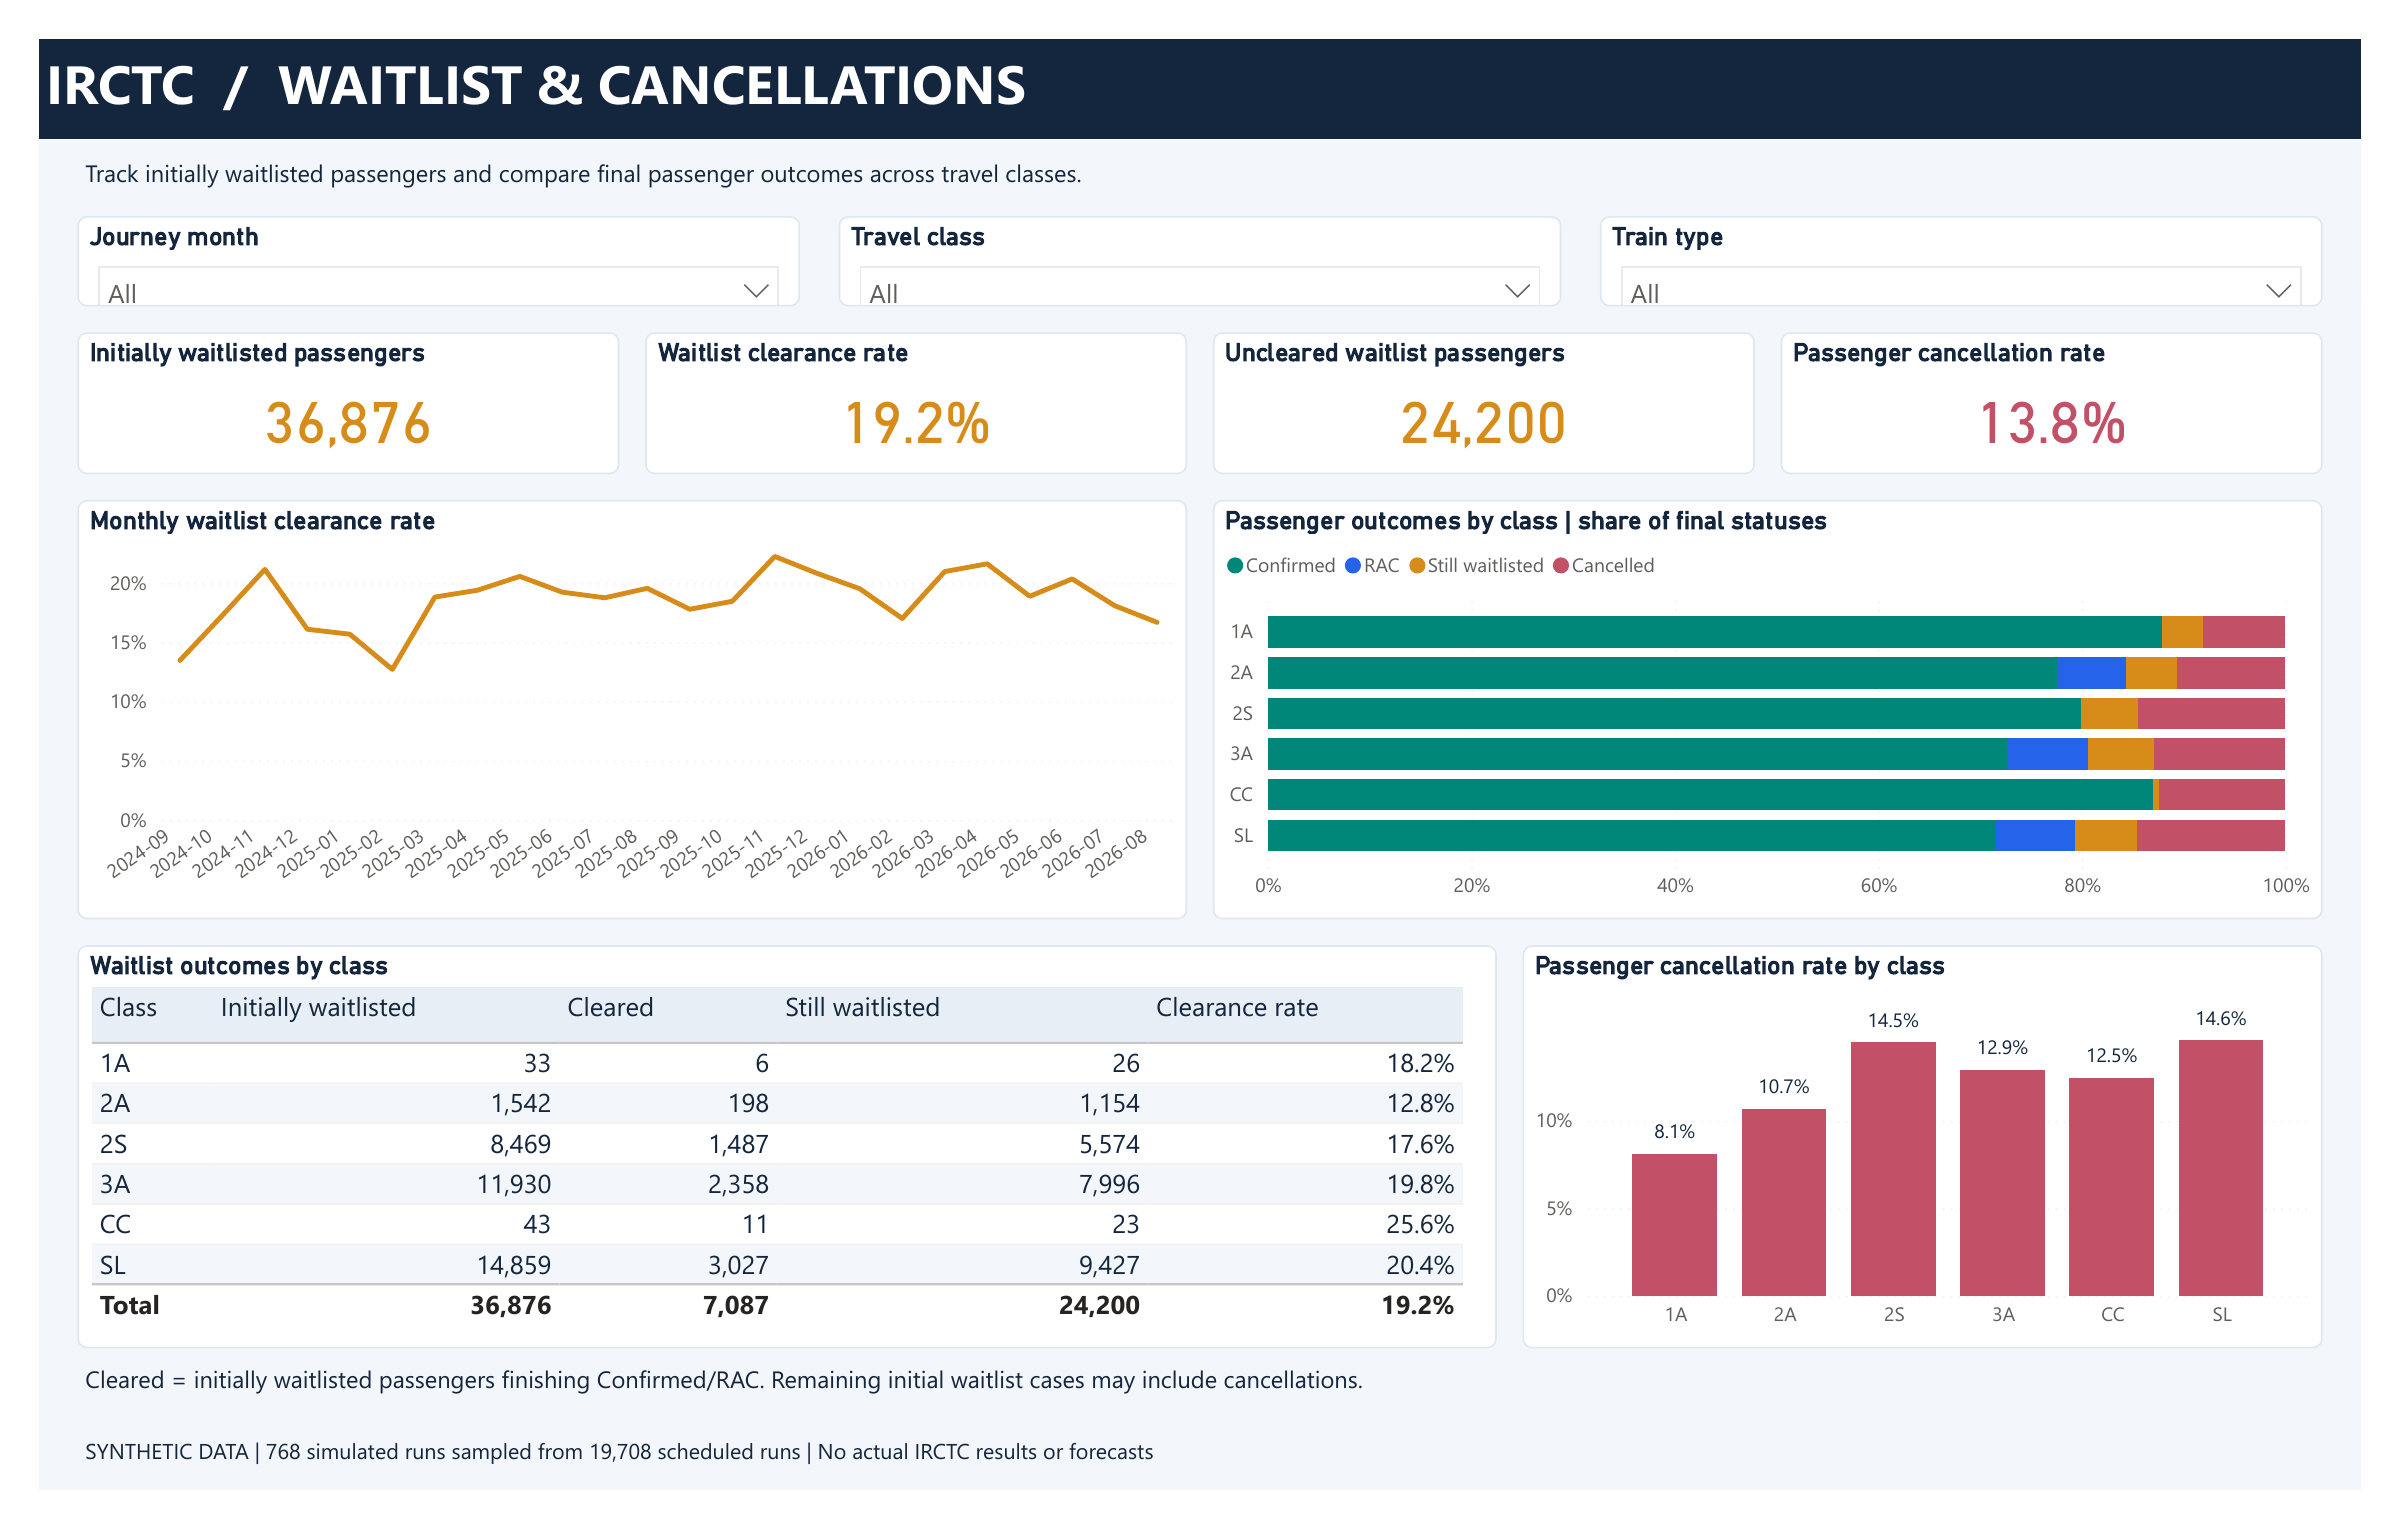

What the dashboard file says about the page in this screenshot:
{"tool":"tableau","page":{"name":"05 Waitlist and cancellations","canvas":[1400,820],"ordinal":4},"visuals":[{"type":"text","box":[0,0,1400,58]},{"type":"text","box":[22,66,1356,28]},{"type":"parameter","param":"[Parameters].[Journey month]","box":[22,102,328,53]},{"type":"parameter","param":"[Parameters].[Travel class]","box":[366,102,328,53]},{"type":"parameter","param":"[Parameters].[Train type]","box":[710,102,328,53]},{"type":"text","box":[1060,111,318,35]},{"type":"text","box":[22,168,327,27]},{"type":"text","box":[366,168,327,27]},{"type":"text","box":[710,168,327,27]},{"type":"text","box":[1054,168,327,27]},{"type":"worksheet","title":"05 KPI Initially waitlisted","mark":"Text","box":[22,195,327,61]},{"type":"worksheet","title":"05 KPI Waitlist clearance rate","mark":"Text","box":[366,195,327,61]},{"type":"worksheet","title":"05 KPI Still waitlisted","mark":"Text","box":[710,195,327,61]},{"type":"worksheet","title":"05 KPI Passenger cancellation rate","mark":"Text","box":[1054,195,327,61]},{"type":"worksheet","title":"05 Monthly waitlist clearance rate","mark":"Line","rows":["Waitlist Clearance Rate"],"cols":["Month"],"box":[22,272,660,225]},{"type":"worksheet","title":"05 Initial waitlist cohort | final passenger counts","mark":"Bar","rows":["FinalStatus"],"cols":["Total Passengers"],"box":[698,272,680,225]},{"type":"text","box":[22,513,850,33]},{"type":"worksheet","title":"05 Passenger cancellation rate by class","mark":"Bar","rows":["Passenger Cancellation Rate"],"cols":["TravelClass"],"box":[888,513,490,222]},{"type":"worksheet","title":"05 Final passenger counts by class","mark":"Bar","rows":["TravelClass"],"cols":["Total Passengers"],"box":[22,551,850,184]},{"type":"text","box":[22,751,1356,27]},{"type":"text","box":[22,788,1356,23]}]}

Visuals, with their boxes on the page's 1400x820 design canvas (x1, y1, x2, y2). These are canvas units, not pixel positions in the 2400x1530 screenshot, which may show the page scaled, cropped or inside an application window:
text: rect(0, 0, 1400, 58)
text: rect(22, 66, 1378, 94)
parameter: rect(22, 102, 350, 155)
parameter: rect(366, 102, 694, 155)
parameter: rect(710, 102, 1038, 155)
text: rect(1060, 111, 1378, 146)
text: rect(22, 168, 349, 195)
text: rect(366, 168, 693, 195)
text: rect(710, 168, 1037, 195)
text: rect(1054, 168, 1381, 195)
"05 KPI Initially waitlisted" worksheet (Text marks): rect(22, 195, 349, 256)
"05 KPI Waitlist clearance rate" worksheet (Text marks): rect(366, 195, 693, 256)
"05 KPI Still waitlisted" worksheet (Text marks): rect(710, 195, 1037, 256)
"05 KPI Passenger cancellation rate" worksheet (Text marks): rect(1054, 195, 1381, 256)
"05 Monthly waitlist clearance rate" worksheet (Line marks): rect(22, 272, 682, 497)
"05 Initial waitlist cohort | final passenger counts" worksheet (Bar marks): rect(698, 272, 1378, 497)
text: rect(22, 513, 872, 546)
"05 Passenger cancellation rate by class" worksheet (Bar marks): rect(888, 513, 1378, 735)
"05 Final passenger counts by class" worksheet (Bar marks): rect(22, 551, 872, 735)
text: rect(22, 751, 1378, 778)
text: rect(22, 788, 1378, 811)
